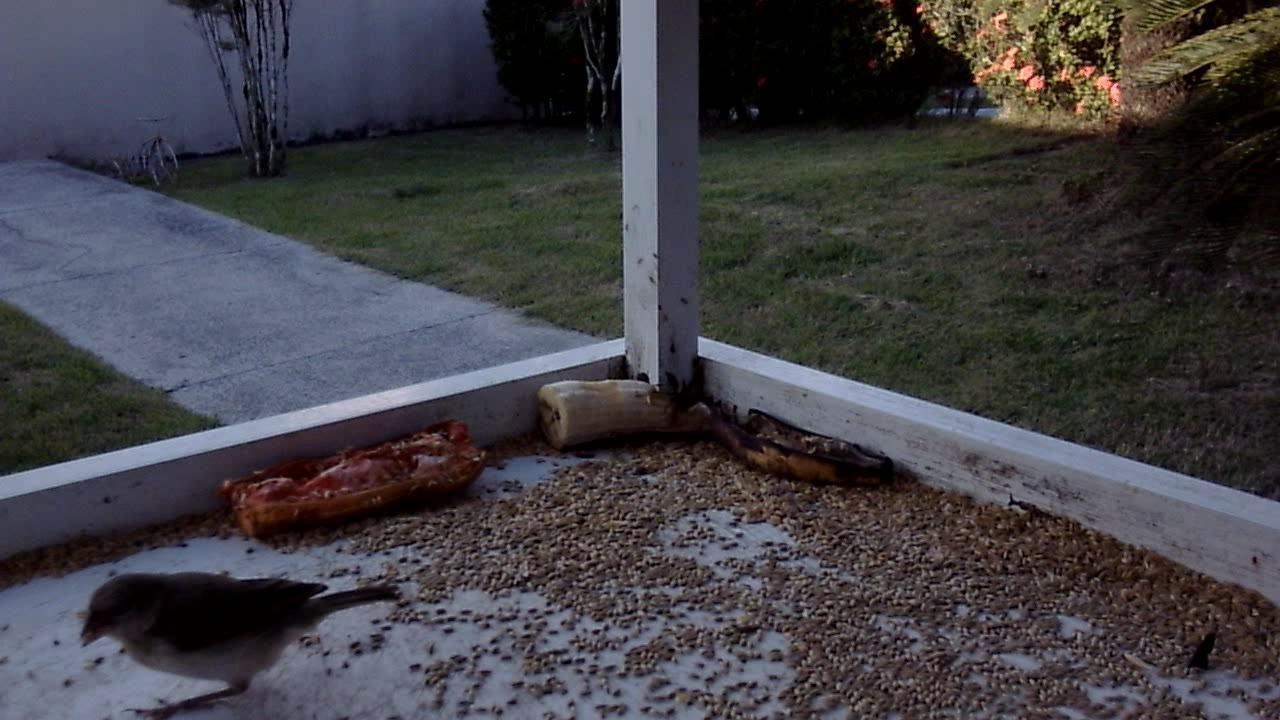canario_do_amazonas: (69, 552, 416, 716)
